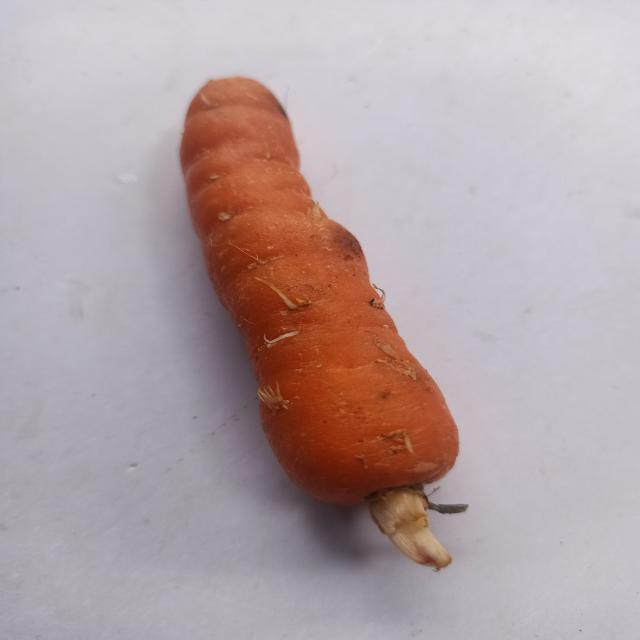Carrot: (158, 60, 486, 584)
